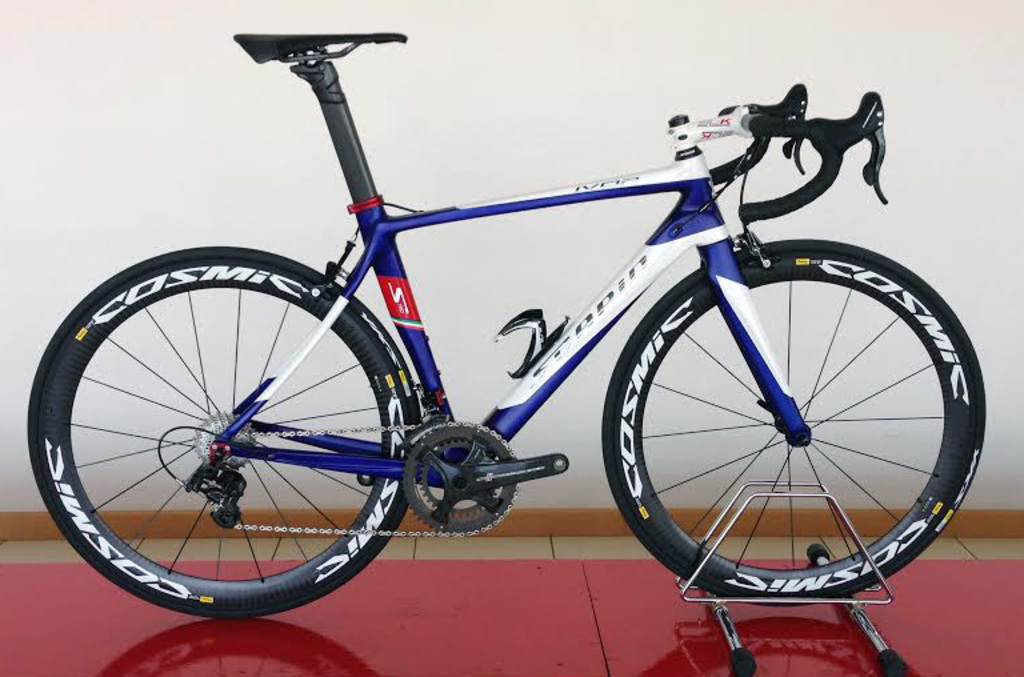Bike: (45, 101, 1016, 629)
